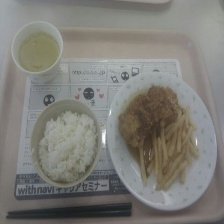rice: (35, 109, 99, 184)
